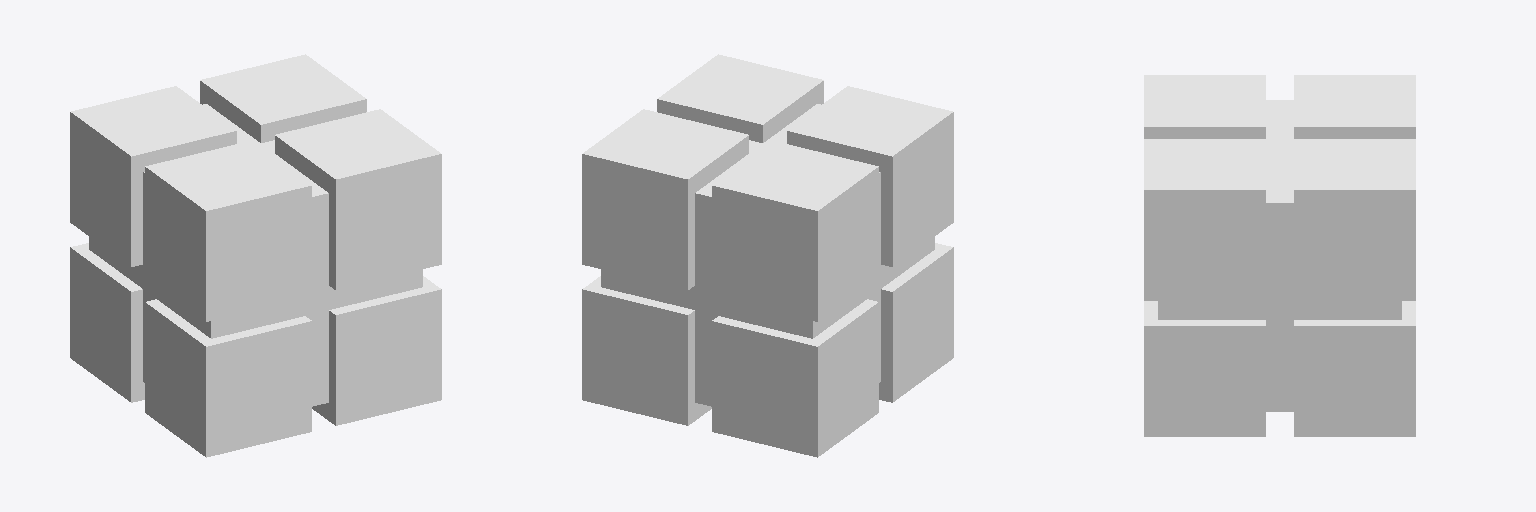
The model's file is boss.obj.
3 views of the same model, side by side, from view 1: azimuth 30°, elevation 25°; view 2: azimuth 150°, elevation 25°; view 3: azimuth 270°, elevation 25° (orthographic).
Visible parts, largest first — view 1: object 1; view 2: object 1; view 3: object 1.
Boxes of the visible parts, x1,y1,x2,y2 form: object 1: [70, 54, 441, 457]; object 1: [582, 54, 953, 457]; object 1: [1144, 75, 1415, 436].
Size of the model in its own units: 4 by 4 by 4.